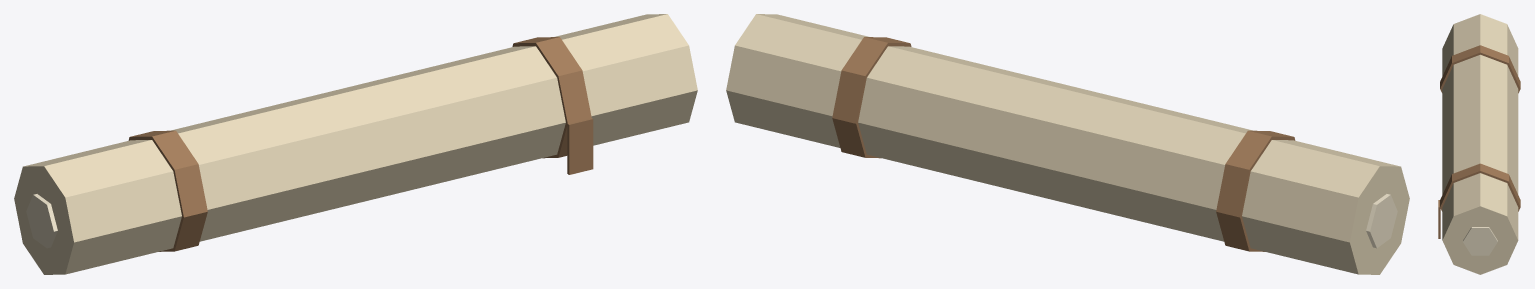
The model's file is prop-rolled-chart.fbx.
3 views of the same model, side by side, from view 1: azimuth 30°, elevation 25°; view 2: azimuth 150°, elevation 25°; view 3: azimuth 270°, elevation 25° (orthographic). The views are drawn at different scales.
Visible parts, largest first — view 1: prop-rolled-chart; view 2: prop-rolled-chart; view 3: prop-rolled-chart.
Boxes of the visible parts, left/top/right/bottom form: prop-rolled-chart: left=14, top=14, right=697, bottom=274; prop-rolled-chart: left=726, top=14, right=1409, bottom=274; prop-rolled-chart: left=1438, top=14, right=1520, bottom=274.
Size of the model in its own units: 79 by 13.8 by 14.1.
